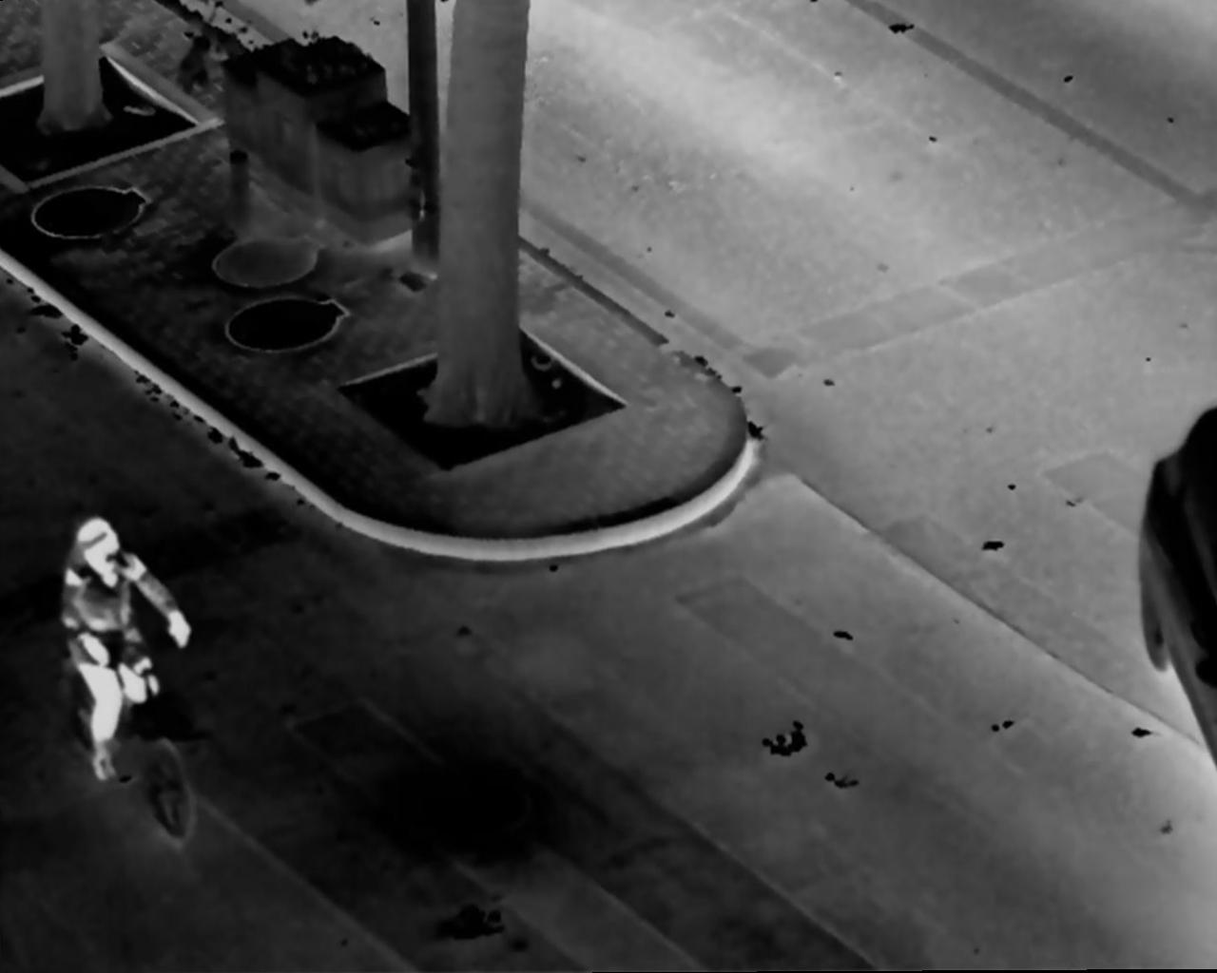person: (49, 507, 203, 801)
